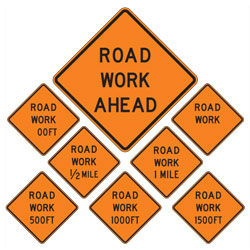Road_workahead: (52, 8, 200, 153)
